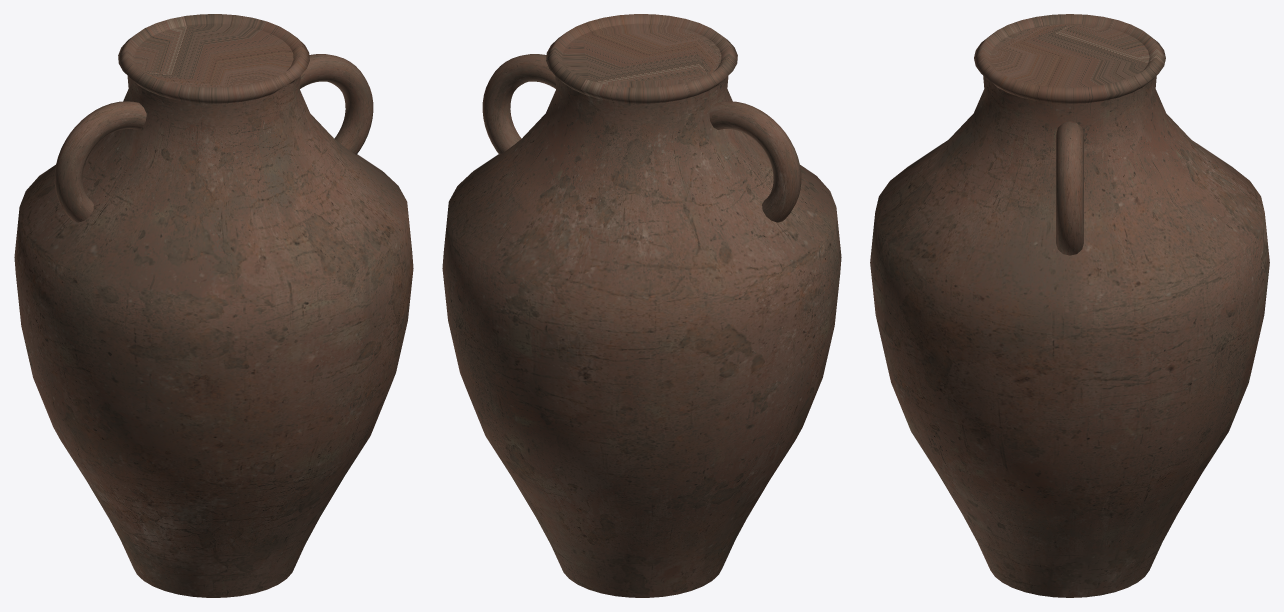
Rendered from pot_vase.gltf.
3 renders of one model, left to right at view 1: azimuth 30°, elevation 25°; view 2: azimuth 150°, elevation 25°; view 3: azimuth 270°, elevation 25°, orthographic.
Visible parts, largest first — view 1: Sphere; view 2: Sphere; view 3: Sphere.
Part boxes in pixels (x1,y1,x2,y2): Sphere: (14,14,413,597); Sphere: (442,14,841,597); Sphere: (870,14,1269,597).
Size of the model in its own units: 0.5521 by 0.7812 by 0.5521.
Materials: 1 (1 with a texture image).
